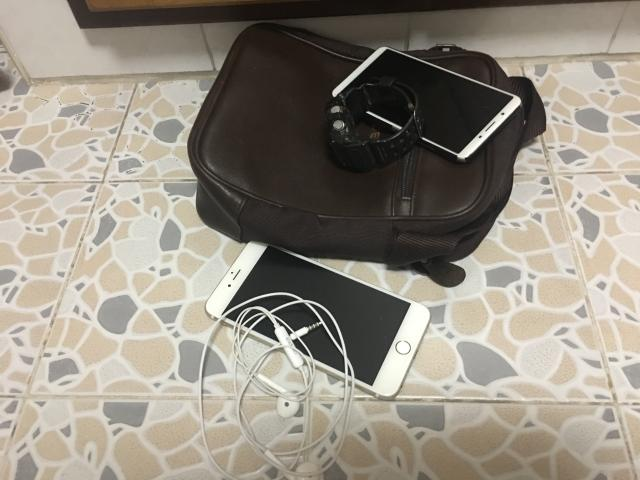Mobile phone: (205, 243, 430, 399), (332, 46, 521, 162)
Watch: (324, 79, 422, 171)
wire: (197, 292, 355, 480)
